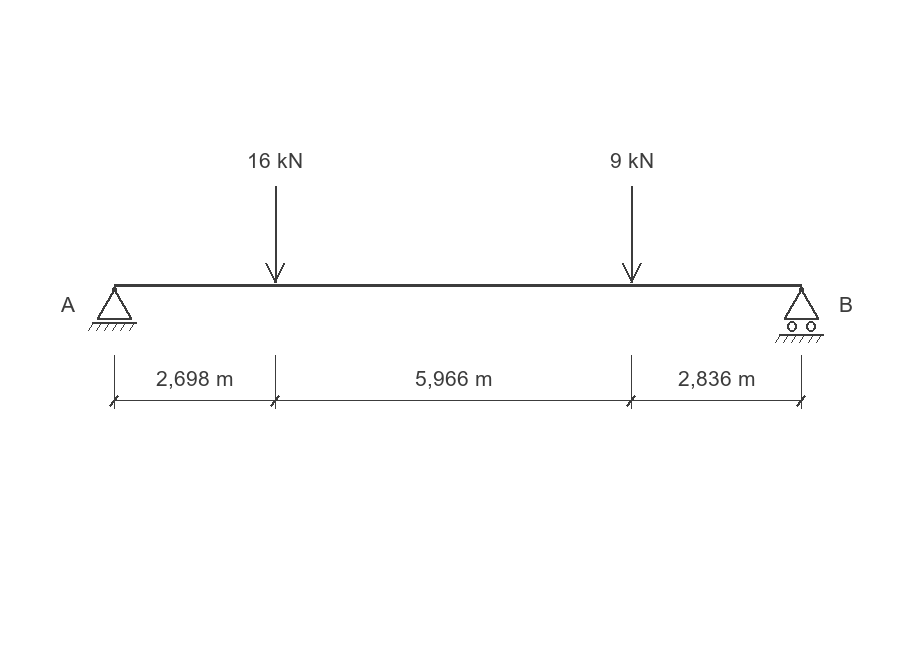pin_support: (88, 287, 137, 331)
point_load: (265, 186, 285, 283), (622, 186, 642, 283)
roller_support: (775, 287, 824, 343)
